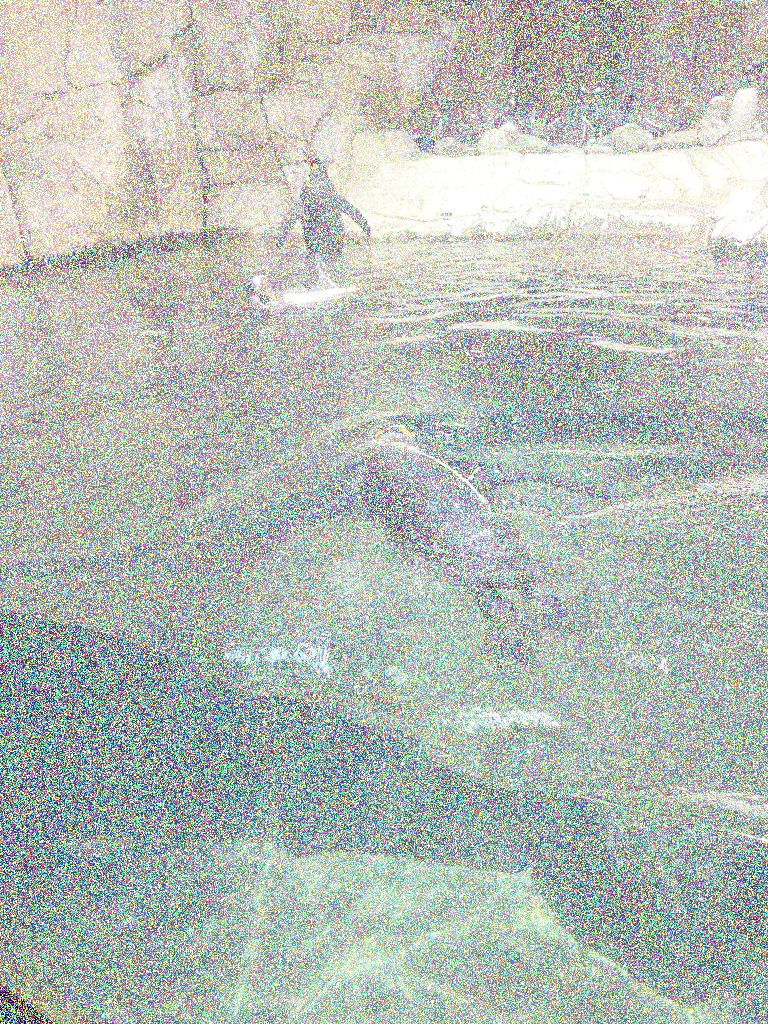penguin: (231, 411, 630, 663), (274, 150, 370, 260), (245, 254, 359, 314), (543, 84, 597, 148), (678, 82, 730, 146), (728, 60, 764, 136), (421, 96, 475, 146), (585, 84, 623, 140), (619, 104, 673, 134), (496, 92, 530, 138)
